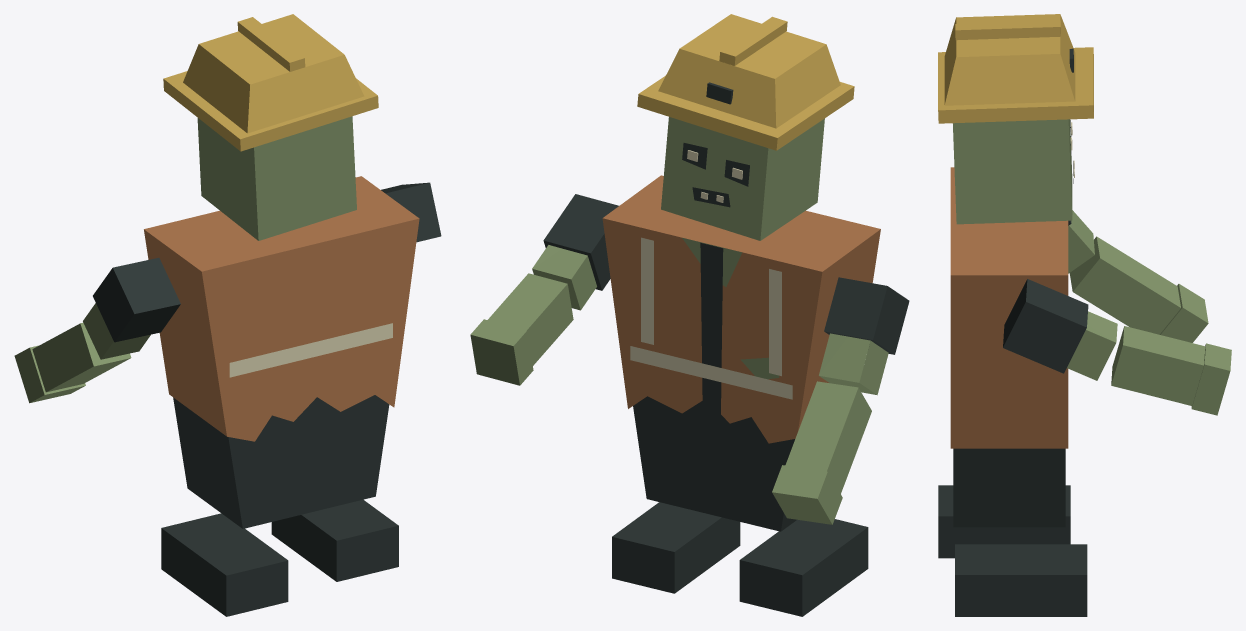
Rendered from zombie_helmet.glb.
The picture shows the model from 3 angles, left to right: view 1: azimuth 30°, elevation 25°; view 2: azimuth 150°, elevation 25°; view 3: azimuth 270°, elevation 25°; orthographic projection.
Parts seen in each view (by area): view 1: body, hat, head, ShoeLeft, ShoeRight, armLeft, handLeft, armRight; view 2: body, hat, head, ShoeLeft, handLeft, ShoeRight, armLeft, handRight, armRight; view 3: body, hat, head, ShoeRight, handLeft, armRight, handRight, ShoeLeft, armLeft.
Part boxes in pixels (bbox=[...]): body: bbox=[144, 176, 419, 528]; hat: bbox=[163, 14, 378, 151]; head: bbox=[197, 116, 356, 240]; ShoeLeft: bbox=[161, 513, 288, 616]; ShoeRight: bbox=[271, 499, 398, 581]; armLeft: bbox=[83, 257, 180, 359]; handLeft: bbox=[14, 323, 131, 403]; armRight: bbox=[381, 182, 441, 242]; body: bbox=[602, 175, 880, 531]; hat: bbox=[637, 14, 854, 150]; head: bbox=[661, 117, 824, 240]; ShoeLeft: bbox=[739, 519, 868, 616]; handLeft: bbox=[772, 381, 871, 524]; ShoeRight: bbox=[612, 502, 740, 593]; armLeft: bbox=[819, 277, 909, 395]; handRight: bbox=[470, 273, 573, 385]; armRight: bbox=[532, 194, 618, 310]; body: bbox=[950, 167, 1068, 527]; hat: bbox=[938, 14, 1093, 123]; head: bbox=[953, 119, 1074, 224]; ShoeRight: bbox=[955, 544, 1087, 616]; handLeft: bbox=[1069, 236, 1208, 342]; armRight: bbox=[1003, 279, 1117, 380]; handRight: bbox=[1111, 326, 1231, 415]; ShoeLeft: bbox=[938, 485, 1070, 558]; armLeft: bbox=[1068, 210, 1094, 273].
Bounding box in the file's own units: 1.17 × 1.81 × 0.8876.
